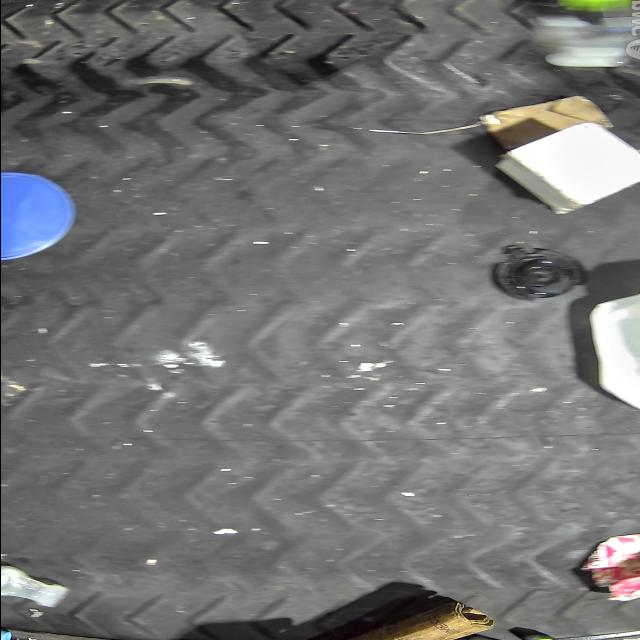milk_jug: (590, 274, 640, 421)
